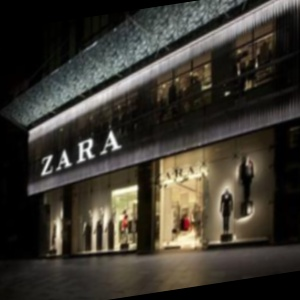zara: (63, 87, 198, 220)
